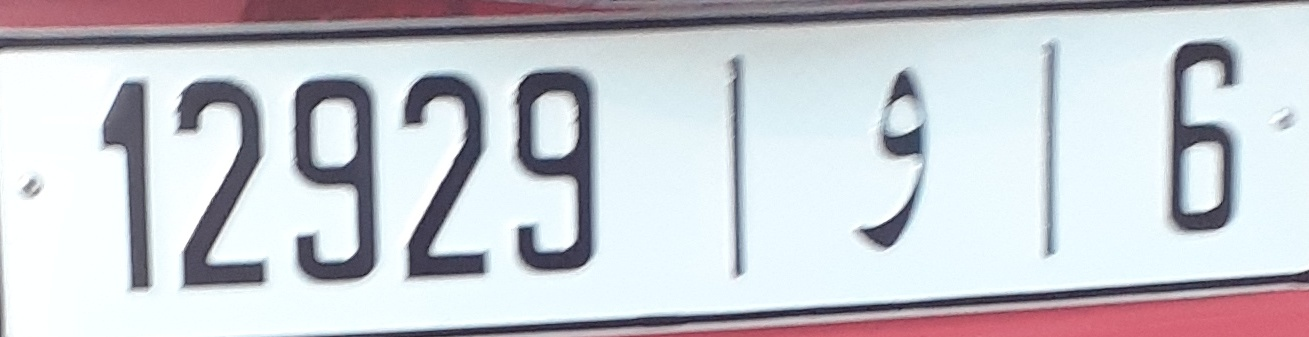1: (96, 69, 165, 302)
2: (173, 74, 276, 290), (397, 69, 500, 285)
6: (1161, 38, 1247, 236)
9: (506, 69, 611, 277), (290, 69, 383, 291)
waw: (846, 63, 939, 251)
